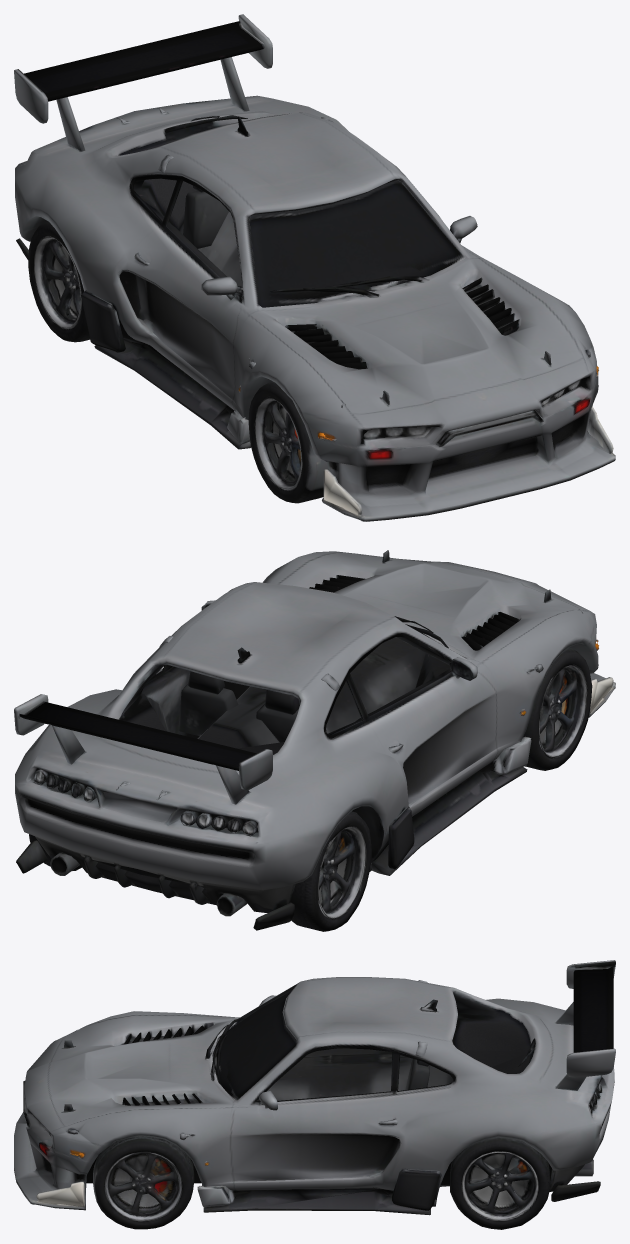
File: track_car_base_v2_articulated.glb
The picture shows the model from 3 angles, top to bottom: view 1: azimuth 30°, elevation 25°; view 2: azimuth 150°, elevation 25°; view 3: azimuth 270°, elevation 25°; orthographic projection. The views are drawn at different scales.
Visible parts, largest first — view 1: Body, Wheel_RL, Wheel_FL; view 2: Body, Wheel_RL, Wheel_FL; view 3: Body, Wheel_FR, Wheel_RR.
Boxes of the visible parts, x1=… form: Body: x1=14, y1=14, x2=615, y2=521; Wheel_RL: x1=128, y1=232, x2=359, y2=515; Wheel_FL: x1=15, y1=152, x2=237, y2=410; Body: x1=14, y1=550, x2=615, y2=930; Wheel_RL: x1=369, y1=626, x2=613, y2=800; Wheel_FL: x1=260, y1=741, x2=520, y2=931; Body: x1=14, y1=960, x2=615, y2=1225; Wheel_FR: x1=204, y1=1130, x2=549, y2=1229; Wheel_RR: x1=55, y1=1136, x2=194, y2=1229.
Bounding box in the file's own units: 0.4863 × 0.3223 × 0.998.
1 material, 1 textured.
